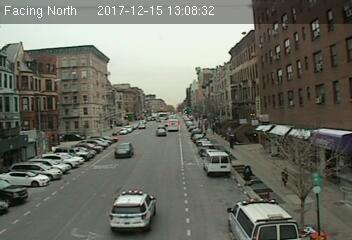car: (113, 143, 134, 157), (156, 129, 166, 136)
pedestrian: (243, 163, 255, 188), (280, 166, 289, 187)
police: (226, 197, 299, 240), (107, 190, 159, 234)
truck: (204, 151, 232, 176), (167, 119, 179, 131)
